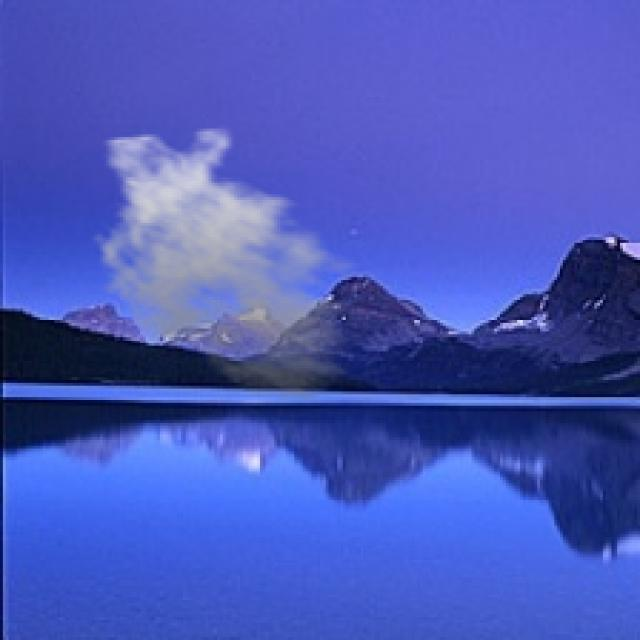Smoke: (88, 126, 372, 403)
